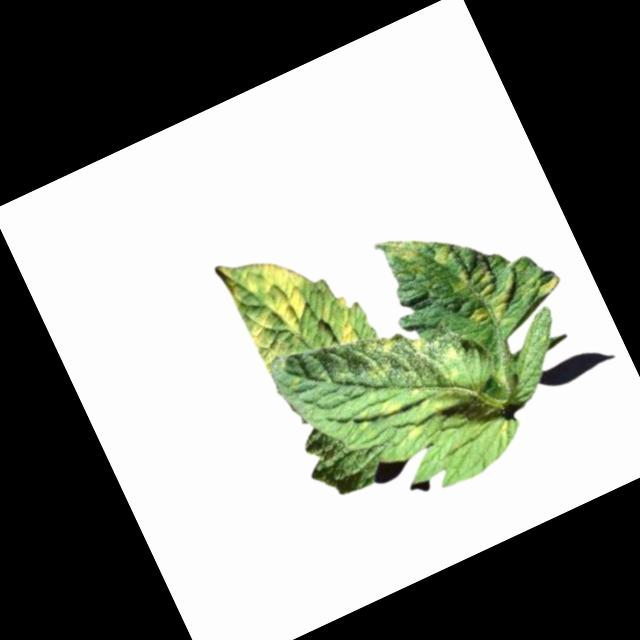Leaf_Mold: (212, 232, 335, 372), (447, 248, 527, 329), (373, 224, 437, 287), (352, 327, 410, 383), (323, 289, 366, 344), (396, 412, 432, 446), (527, 267, 564, 298), (431, 239, 460, 268), (379, 393, 407, 420)
